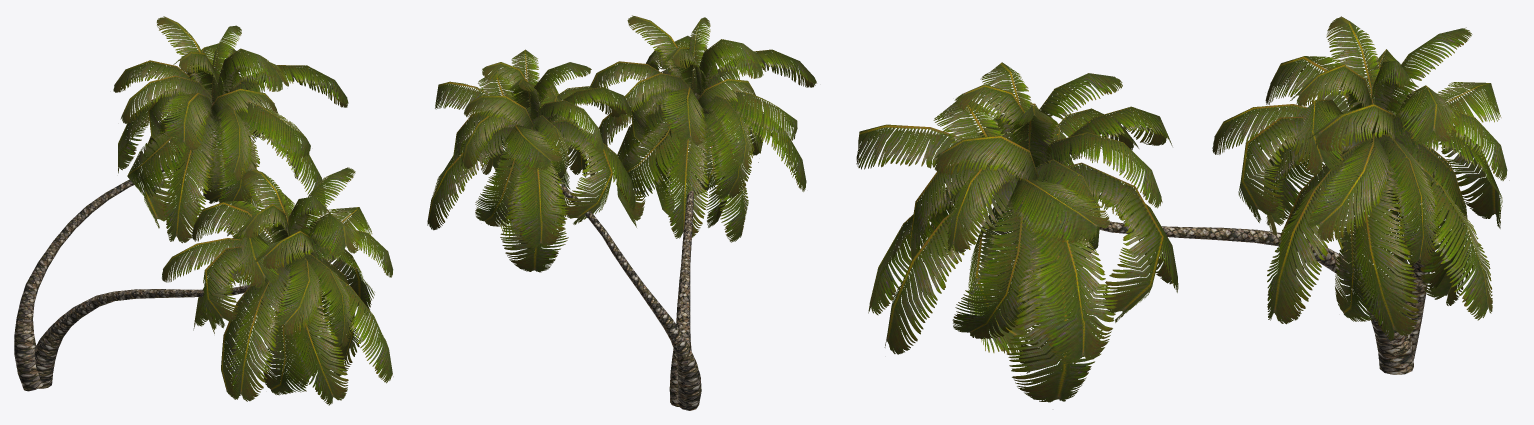
The model's file is palm_tropical_2.glb.
The picture shows the model from 3 angles, left to right: view 1: azimuth 30°, elevation 25°; view 2: azimuth 150°, elevation 25°; view 3: azimuth 270°, elevation 25°; orthographic projection. The views are drawn at different scales.
Parts seen in each view (by area): view 1: palm_tropical_2; view 2: palm_tropical_2; view 3: palm_tropical_2.
Part boxes in pixels (bbox=[...]): palm_tropical_2: bbox=[14, 16, 393, 405]; palm_tropical_2: bbox=[427, 15, 816, 410]; palm_tropical_2: bbox=[856, 16, 1509, 402].
Bounding box in the file's own units: 7.79 × 7.81 × 10.64.
Materials: 1 (1 with a texture image).
